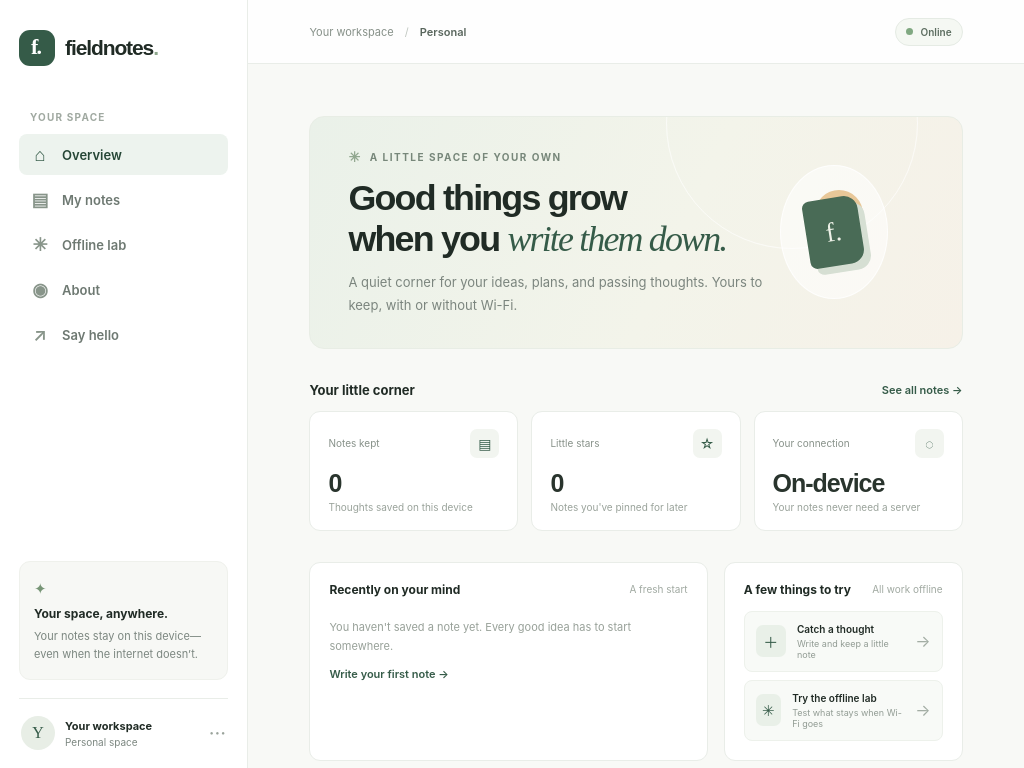
shows the workspace and navigates between pages
Expected: the heading "Good things grow" is shown, [348,178,780,260]
Click the link "▤ My notes" at (76, 200), box [32,189,120,210]
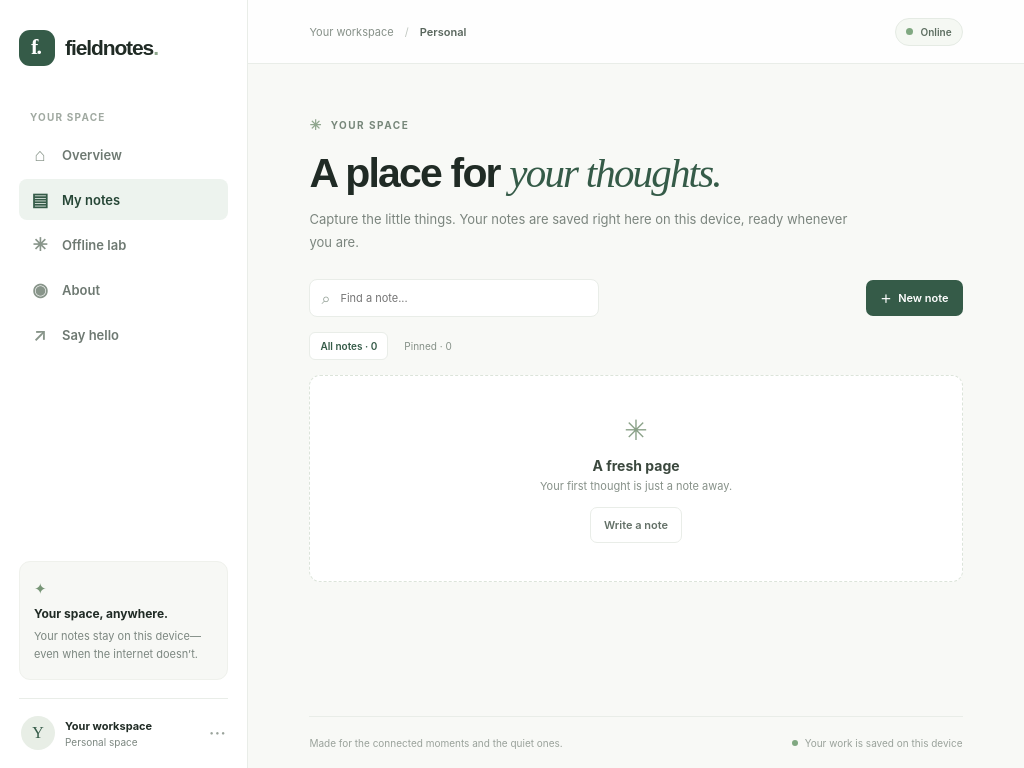
Expected: the heading "A place for your thoughts." is shown, [309,150,721,196]
